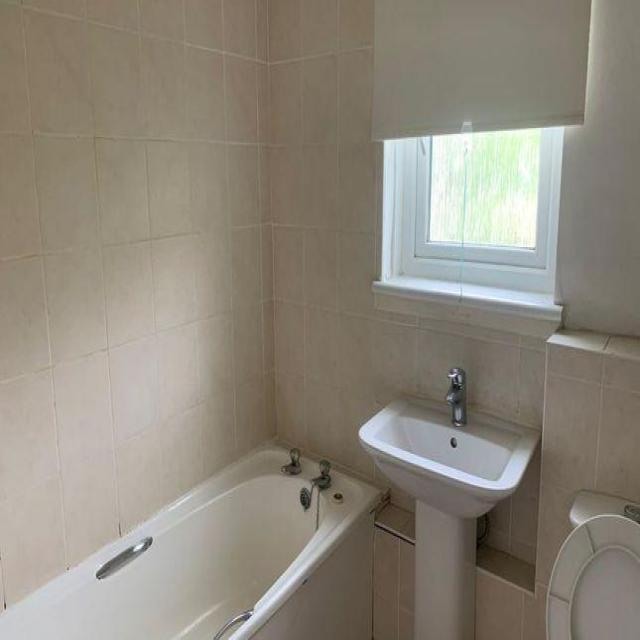Wall: (0, 0, 640, 637), (375, 512, 414, 637)
